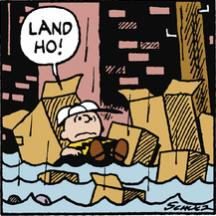charlie: (54, 98, 130, 162)
